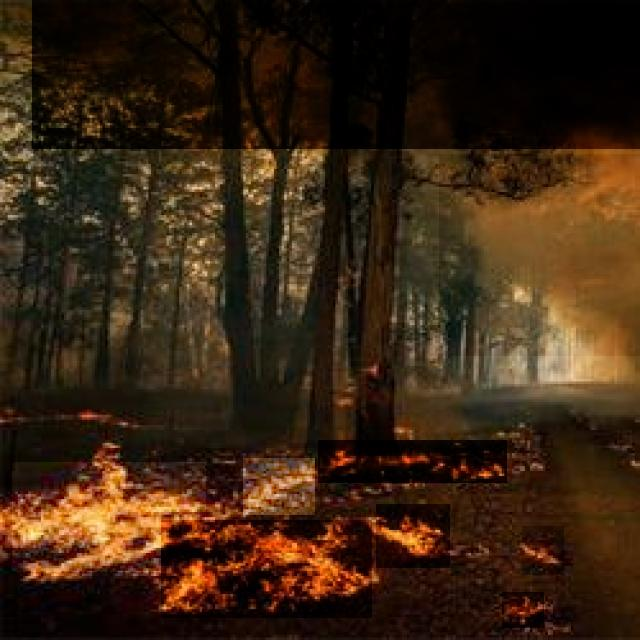Fire: (12, 462, 206, 572), (161, 520, 372, 618), (318, 440, 507, 483), (376, 504, 450, 568), (243, 458, 315, 515), (6, 405, 132, 436), (522, 526, 564, 575), (502, 592, 544, 628)
Smoke: (32, 0, 640, 149), (439, 154, 640, 356)
